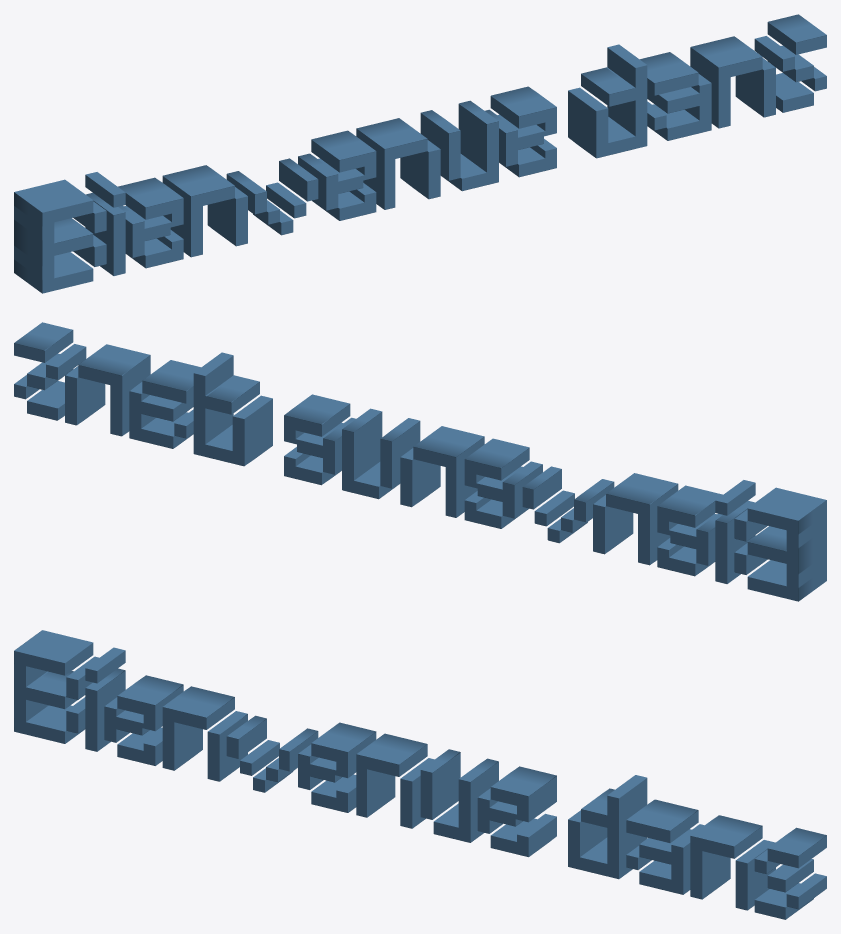
File: welcome.fbx
The picture shows the model from 3 angles, top to bottom: view 1: azimuth 30°, elevation 25°; view 2: azimuth 150°, elevation 25°; view 3: azimuth 330°, elevation 25°; orthographic projection.
Parts seen in each view (by area): view 1: cbf9efb8c24cfe04843f0150bd8c17a5_3, cbf9efb8c24cfe04843f0150bd8c17a5_2, cbf9efb8c24cfe04843f0150bd8c17a5_0, cbf9efb8c24cfe04843f0150bd8c17a5_12, cbf9efb8c24cfe04843f0150bd8c17a5_32, cbf9efb8c24cfe04843f0150bd8c17a5_16, cbf9efb8c24cfe04843f0150bd8c17a5_8, cbf9efb8c24cfe04843f0150bd8c17a5_10, cbf9efb8c24cfe04843f0150bd8c17a5_13, cbf9efb8c24cfe04843f0150bd8c17a5_9, cbf9efb8c24cfe04843f0150bd8c17a5_7, cbf9efb8c24cfe04843f0150bd8c17a5_11 (+35 smaller); view 2: cbf9efb8c24cfe04843f0150bd8c17a5_3, cbf9efb8c24cfe04843f0150bd8c17a5_2, cbf9efb8c24cfe04843f0150bd8c17a5_0, cbf9efb8c24cfe04843f0150bd8c17a5_12, cbf9efb8c24cfe04843f0150bd8c17a5_32, cbf9efb8c24cfe04843f0150bd8c17a5_16, cbf9efb8c24cfe04843f0150bd8c17a5_8, cbf9efb8c24cfe04843f0150bd8c17a5_10, cbf9efb8c24cfe04843f0150bd8c17a5_13, cbf9efb8c24cfe04843f0150bd8c17a5_9, cbf9efb8c24cfe04843f0150bd8c17a5_7, cbf9efb8c24cfe04843f0150bd8c17a5_11 (+35 smaller); view 3: cbf9efb8c24cfe04843f0150bd8c17a5_2, cbf9efb8c24cfe04843f0150bd8c17a5_0, cbf9efb8c24cfe04843f0150bd8c17a5_11, cbf9efb8c24cfe04843f0150bd8c17a5_15, cbf9efb8c24cfe04843f0150bd8c17a5_16, cbf9efb8c24cfe04843f0150bd8c17a5_8, cbf9efb8c24cfe04843f0150bd8c17a5_10, cbf9efb8c24cfe04843f0150bd8c17a5_12, cbf9efb8c24cfe04843f0150bd8c17a5_6, cbf9efb8c24cfe04843f0150bd8c17a5_13, cbf9efb8c24cfe04843f0150bd8c17a5_7, cbf9efb8c24cfe04843f0150bd8c17a5_9 (+39 smaller).
Boxes of the visible parts, box(x1,y1,x2,y2) form: cbf9efb8c24cfe04843f0150bd8c17a5_3: box(14, 205, 54, 293); cbf9efb8c24cfe04843f0150bd8c17a5_2: box(607, 44, 647, 148); cbf9efb8c24cfe04843f0150bd8c17a5_0: box(14, 179, 93, 224); cbf9efb8c24cfe04843f0150bd8c17a5_12: box(458, 100, 498, 184); cbf9efb8c24cfe04843f0150bd8c17a5_32: box(568, 87, 608, 158); cbf9efb8c24cfe04843f0150bd8c17a5_16: box(690, 36, 762, 79); cbf9efb8c24cfe04843f0150bd8c17a5_8: box(162, 165, 234, 208); cbf9efb8c24cfe04843f0150bd8c17a5_10: box(356, 118, 427, 161); cbf9efb8c24cfe04843f0150bd8c17a5_13: box(490, 86, 556, 128); cbf9efb8c24cfe04843f0150bd8c17a5_9: box(311, 130, 376, 172); cbf9efb8c24cfe04843f0150bd8c17a5_7: box(118, 177, 183, 219); cbf9efb8c24cfe04843f0150bd8c17a5_11: box(420, 110, 460, 180); cbf9efb8c24cfe04843f0150bd8c17a5_3: box(786, 513, 826, 601); cbf9efb8c24cfe04843f0150bd8c17a5_2: box(193, 352, 233, 456); cbf9efb8c24cfe04843f0150bd8c17a5_0: box(747, 487, 826, 532); cbf9efb8c24cfe04843f0150bd8c17a5_12: box(342, 408, 382, 492); cbf9efb8c24cfe04843f0150bd8c17a5_32: box(232, 395, 272, 466); cbf9efb8c24cfe04843f0150bd8c17a5_16: box(78, 344, 150, 387); cbf9efb8c24cfe04843f0150bd8c17a5_8: box(606, 473, 678, 516); cbf9efb8c24cfe04843f0150bd8c17a5_10: box(413, 426, 484, 469); cbf9efb8c24cfe04843f0150bd8c17a5_13: box(284, 394, 350, 436); cbf9efb8c24cfe04843f0150bd8c17a5_9: box(464, 438, 529, 480); cbf9efb8c24cfe04843f0150bd8c17a5_7: box(657, 485, 722, 527); cbf9efb8c24cfe04843f0150bd8c17a5_11: box(380, 418, 420, 488); cbf9efb8c24cfe04843f0150bd8c17a5_2: box(607, 775, 647, 879); cbf9efb8c24cfe04843f0150bd8c17a5_0: box(14, 630, 93, 675); cbf9efb8c24cfe04843f0150bd8c17a5_11: box(420, 749, 460, 819); cbf9efb8c24cfe04843f0150bd8c17a5_15: box(626, 799, 698, 842); cbf9efb8c24cfe04843f0150bd8c17a5_16: box(690, 815, 762, 858); cbf9efb8c24cfe04843f0150bd8c17a5_8: box(162, 686, 234, 729); cbf9efb8c24cfe04843f0150bd8c17a5_10: box(356, 733, 427, 776); cbf9efb8c24cfe04843f0150bd8c17a5_12: box(458, 758, 498, 842); cbf9efb8c24cfe04843f0150bd8c17a5_6: box(85, 668, 125, 751); cbf9efb8c24cfe04843f0150bd8c17a5_13: box(490, 766, 556, 808); cbf9efb8c24cfe04843f0150bd8c17a5_7: box(117, 675, 183, 717); cbf9efb8c24cfe04843f0150bd8c17a5_9: box(311, 722, 376, 764).
Size of the model in its own units: 99.85 by 9.83 by 6.25.
